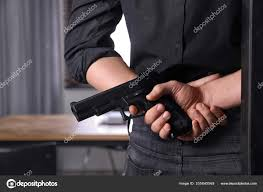gun: (68, 69, 194, 151)
